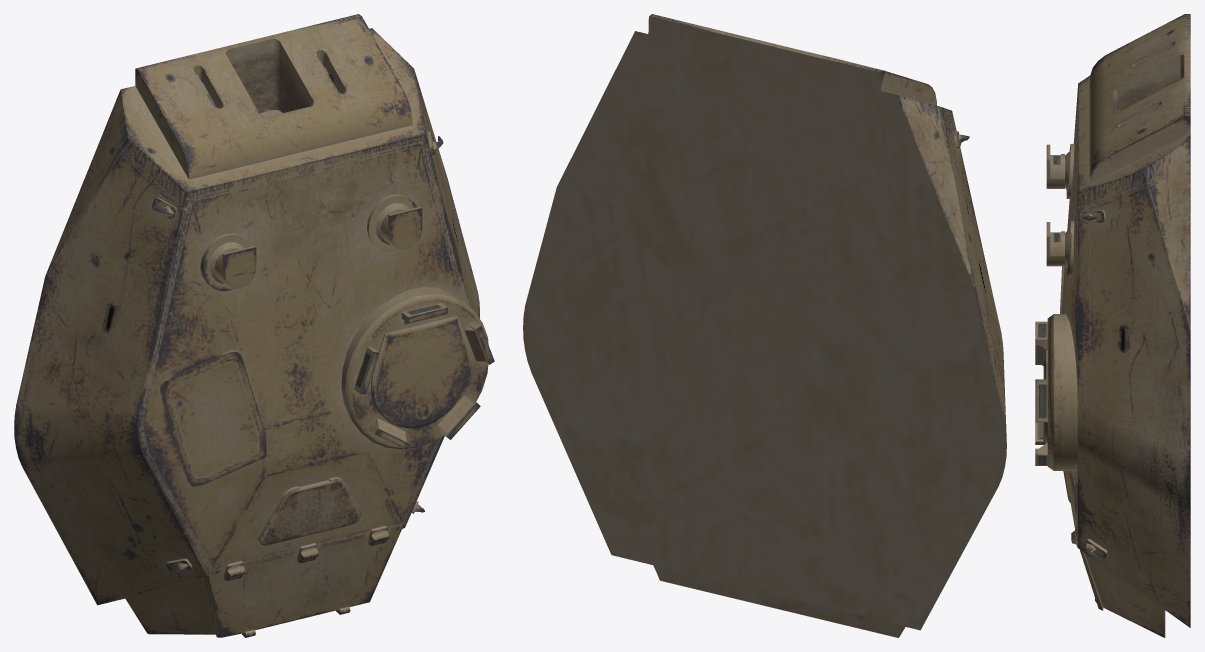
File: Turret_01.glb
3 renders of one model, left to right at view 1: azimuth 30°, elevation 25°; view 2: azimuth 150°, elevation 25°; view 3: azimuth 270°, elevation 25°, orthographic. The views are drawn at different scales.
Visible parts, largest first — view 1: set_0_group_0; view 2: set_0_group_0; view 3: set_0_group_0.
Part boxes in pixels (x1,y1,x2,y2): set_0_group_0: (14, 14, 494, 637); set_0_group_0: (523, 14, 1006, 637); set_0_group_0: (1035, 14, 1190, 637).
Size of the model in its own units: 2.62 by 2.98 by 0.8057.
1 material, 1 textured.
